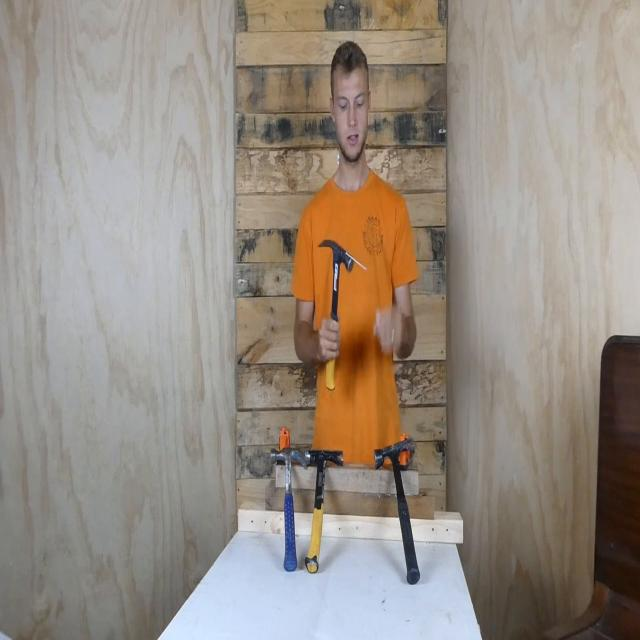hammer: (372, 433, 422, 587), (316, 231, 357, 392), (305, 441, 347, 580), (267, 444, 306, 576)
